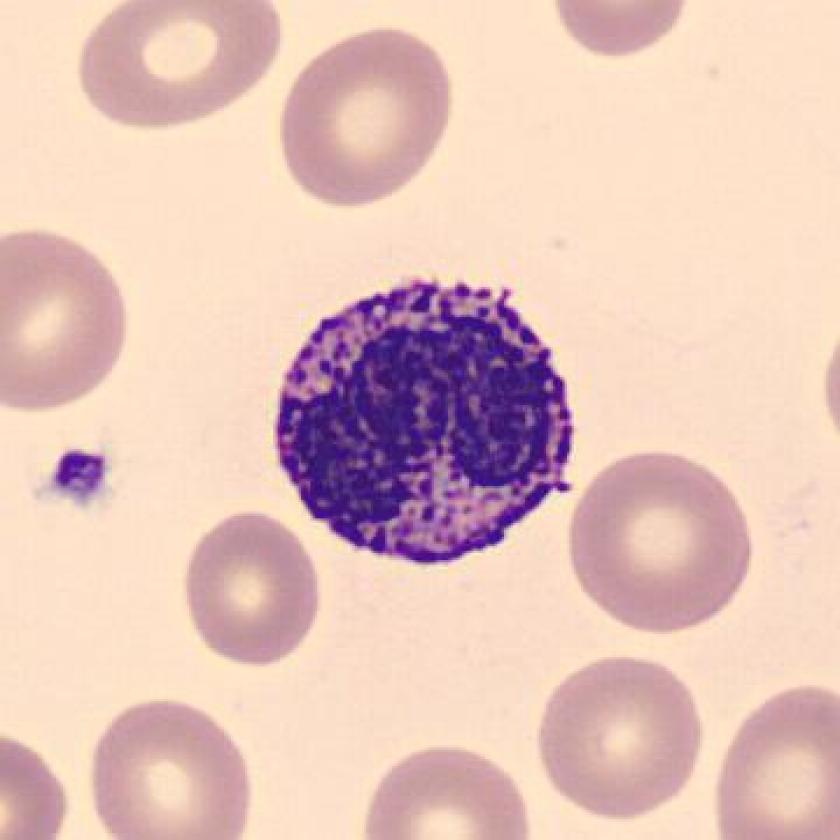basophil: (269, 265, 580, 579)
